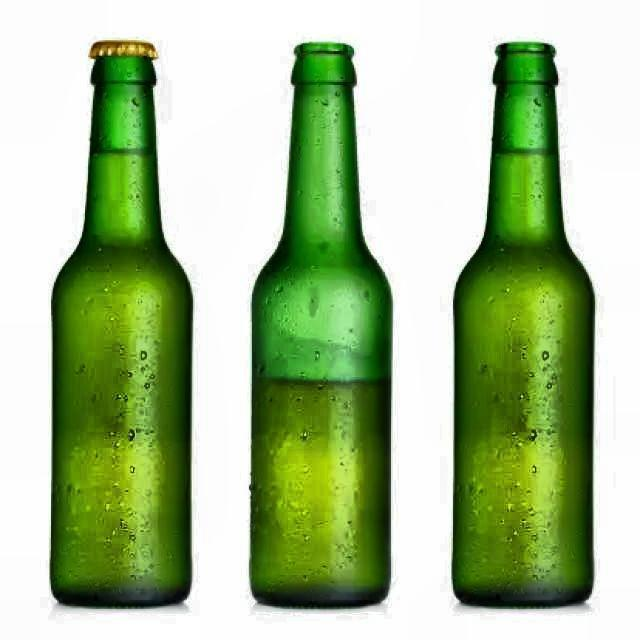glass: (248, 41, 394, 612), (450, 41, 596, 612), (49, 40, 194, 611)
